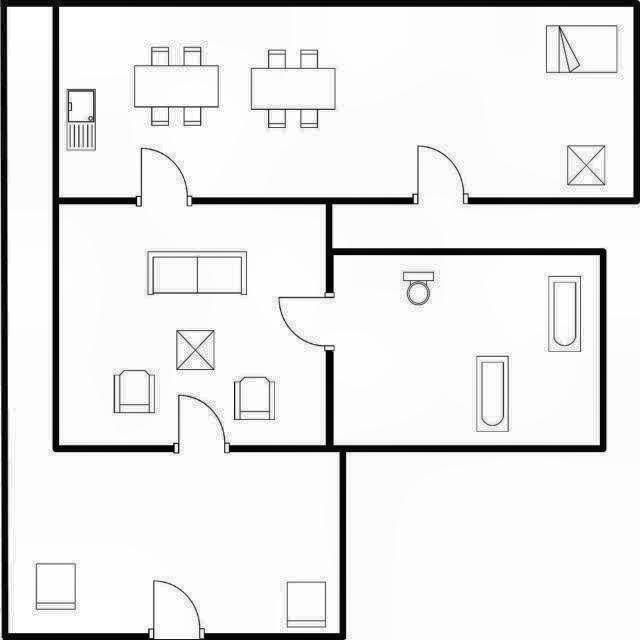room: (7, 5, 340, 633), (58, 7, 633, 197), (59, 205, 326, 444), (335, 255, 600, 444)
